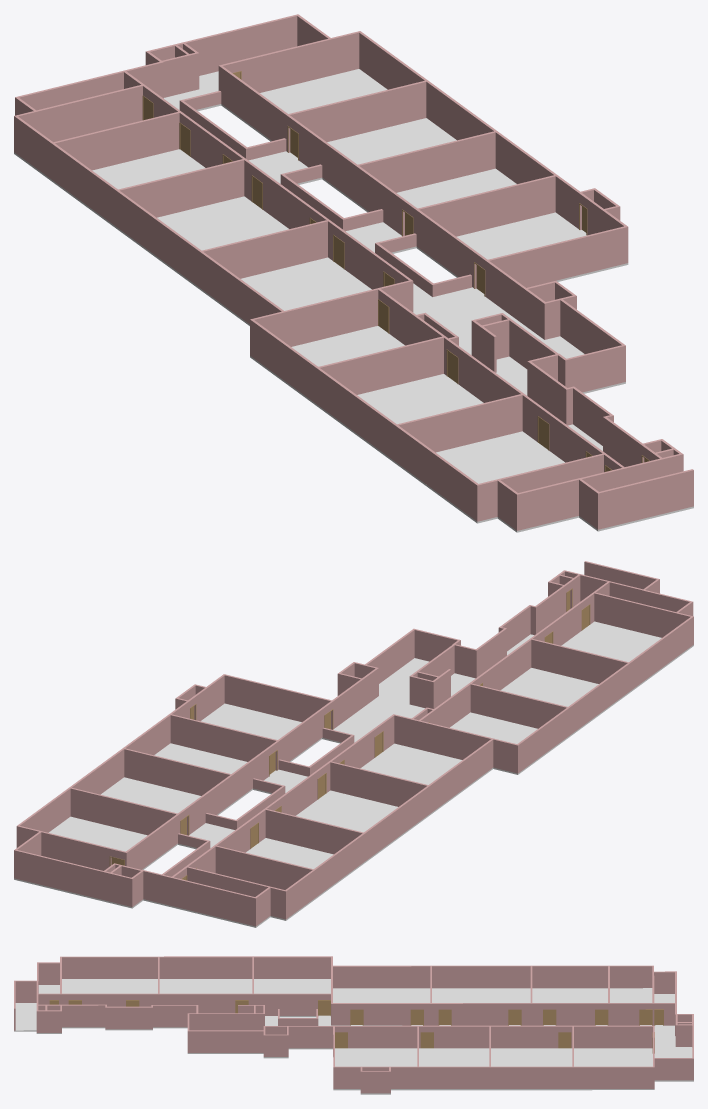
File: floor_R5_ifc.glb
3 views of the same model, one above another, from view 1: azimuth 30°, elevation 25°; view 2: azimuth 150°, elevation 25°; view 3: azimuth 270°, elevation 25° (orthographic). The views are drawn at different scales.
Visible parts, largest first — view 1: IfcWall, IfcSlab, IfcDoor; view 2: IfcWall, IfcSlab, IfcDoor; view 3: IfcWall, IfcSlab, IfcDoor.
Boxes of the visible parts, x1=… form: IfcWall: x1=14, y1=14, x2=693, y2=530; IfcSlab: x1=14, y1=69, x2=693, y2=532; IfcDoor: x1=142, y1=71, x2=649, y2=471; IfcWall: x1=14, y1=561, x2=693, y2=926; IfcSlab: x1=14, y1=621, x2=693, y2=927; IfcDoor: x1=109, y1=588, x2=590, y2=880; IfcWall: x1=14, y1=956, x2=693, y2=1093; IfcSlab: x1=14, y1=979, x2=693, y2=1094; IfcDoor: x1=49, y1=1000, x2=663, y2=1053.
Bounding box in the file's own units: 34.11 × 3.15 × 85.04.
